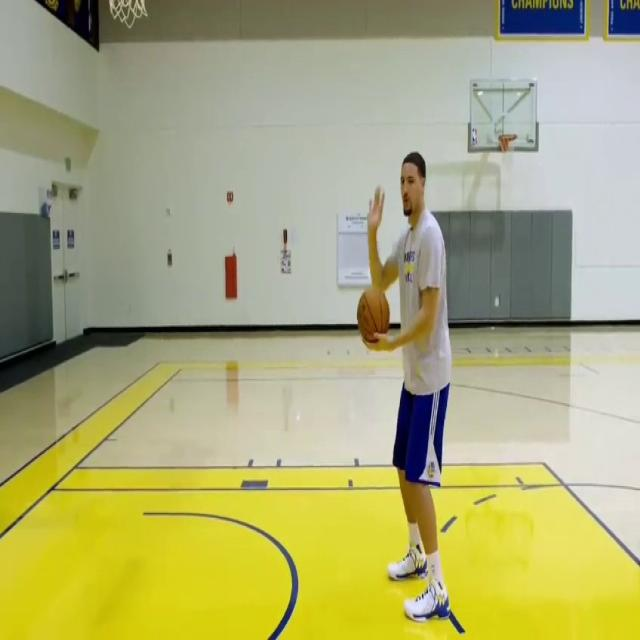ball: (357, 288, 390, 345)
